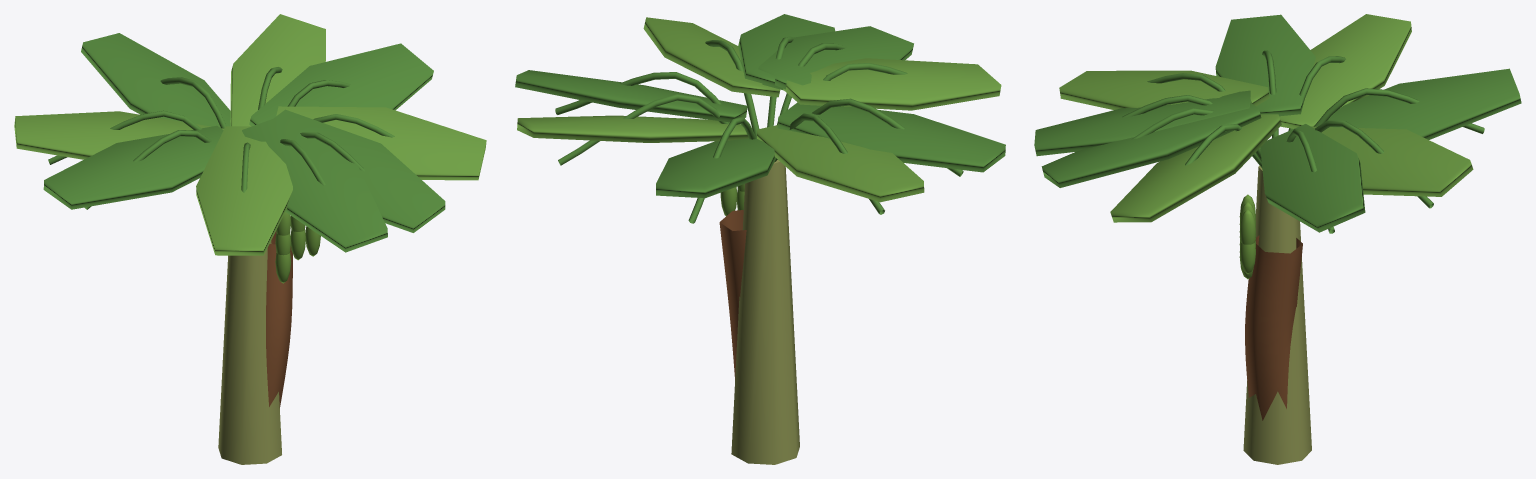
File: LV_CAY_CHUOI_01.glb
The picture shows the model from 3 angles, left to right: view 1: azimuth 30°, elevation 25°; view 2: azimuth 150°, elevation 25°; view 3: azimuth 270°, elevation 25°; orthographic projection. The views are drawn at different scales.
Parts seen in each view (by area): view 1: banana-leaves-surface-53873a, banana-leaves-surface-6b9c41, LV_CAY_CHUOI_01-surface-929a55, LV_CAY_CHUOI_01-surface-825331, LV_CAY_CHUOI_01-surface-6d9b3e; view 2: banana-leaves-surface-53873a, banana-leaves-surface-6b9c41, LV_CAY_CHUOI_01-surface-929a55, LV_CAY_CHUOI_01-surface-825331, LV_CAY_CHUOI_01-surface-6d9b3e; view 3: banana-leaves-surface-53873a, banana-leaves-surface-6b9c41, LV_CAY_CHUOI_01-surface-929a55, LV_CAY_CHUOI_01-surface-825331, LV_CAY_CHUOI_01-surface-6d9b3e.
Part boxes in pixels (bbox=[...]): banana-leaves-surface-53873a: bbox=[43, 33, 445, 252]; banana-leaves-surface-6b9c41: bbox=[14, 14, 486, 255]; LV_CAY_CHUOI_01-surface-929a55: bbox=[218, 241, 281, 464]; LV_CAY_CHUOI_01-surface-825331: bbox=[266, 231, 292, 407]; LV_CAY_CHUOI_01-surface-6d9b3e: bbox=[275, 212, 320, 283]; banana-leaves-surface-53873a: bbox=[515, 14, 1005, 223]; banana-leaves-surface-6b9c41: bbox=[517, 17, 1001, 202]; LV_CAY_CHUOI_01-surface-929a55: bbox=[731, 160, 799, 464]; LV_CAY_CHUOI_01-surface-825331: bbox=[719, 210, 746, 379]; LV_CAY_CHUOI_01-surface-6d9b3e: bbox=[720, 184, 744, 215]; banana-leaves-surface-53873a: bbox=[1034, 14, 1521, 233]; banana-leaves-surface-6b9c41: bbox=[1059, 14, 1473, 222]; LV_CAY_CHUOI_01-surface-929a55: bbox=[1243, 165, 1311, 464]; LV_CAY_CHUOI_01-surface-825331: bbox=[1245, 235, 1302, 420]; LV_CAY_CHUOI_01-surface-6d9b3e: bbox=[1239, 194, 1255, 279].
Bounding box in the file's own units: 3.27 × 2.63 × 3.27.
